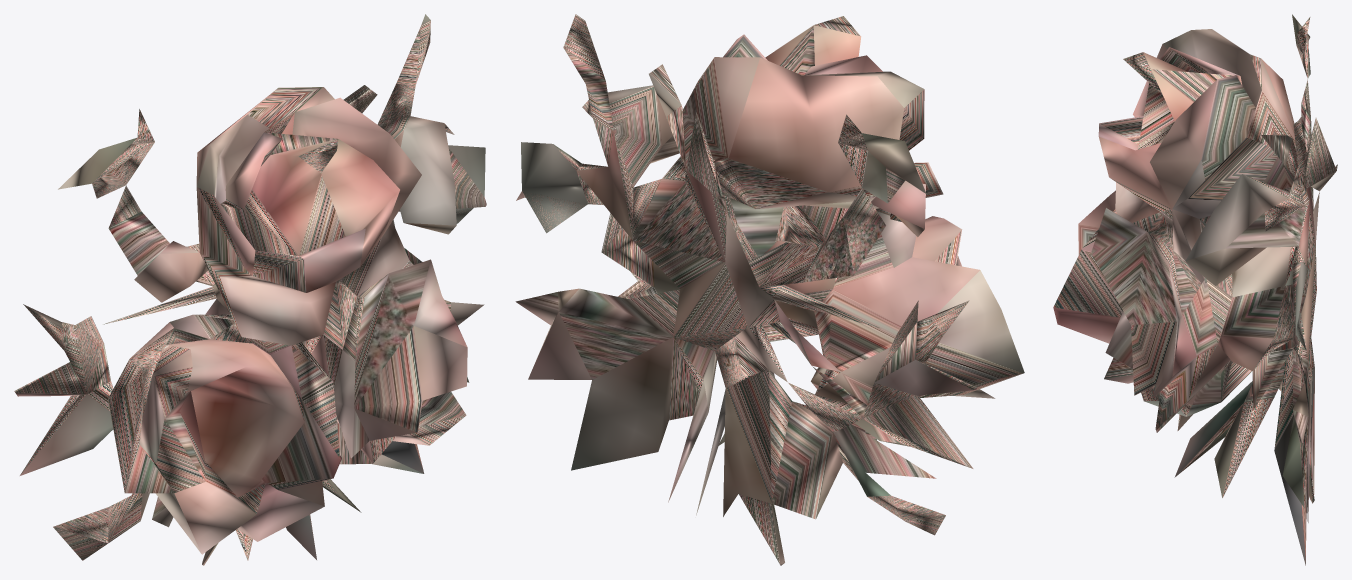
3 views of the same model, side by side, from view 1: azimuth 30°, elevation 25°; view 2: azimuth 150°, elevation 25°; view 3: azimuth 270°, elevation 25° (orthographic). The views are drawn at different scales.
Visible parts, largest first — view 1: Rose-Bouquet-9-25; view 2: Rose-Bouquet-9-25; view 3: Rose-Bouquet-9-25.
Part boxes in pixels (bbox=[...]): Rose-Bouquet-9-25: bbox=[14, 14, 486, 565]; Rose-Bouquet-9-25: bbox=[515, 14, 1024, 565]; Rose-Bouquet-9-25: bbox=[1053, 14, 1337, 565].
Size of the model in its own units: 0.2331 by 0.2387 by 0.1268.
1 material, 1 textured.
